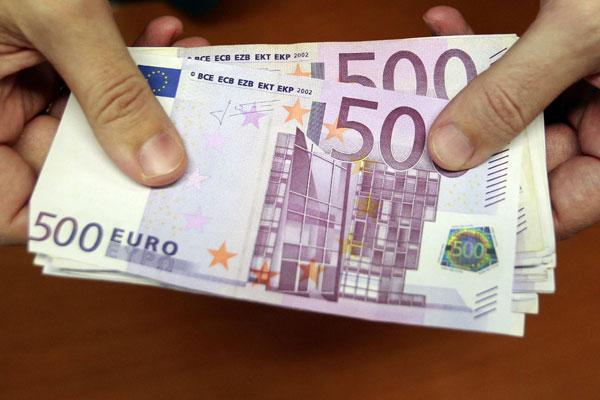euro_banknote: (35, 75, 528, 305)
